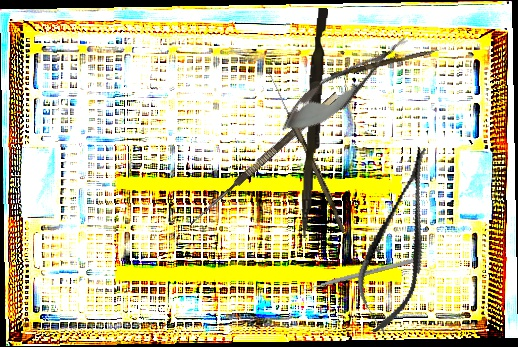Hook Surgical: (187, 91, 347, 235)
Micro Scissor: (343, 140, 455, 340), (272, 23, 418, 147)
Pusher: (299, 7, 329, 239), (294, 256, 420, 295), (329, 44, 440, 81)
Surgical Spoon: (265, 72, 350, 234)
